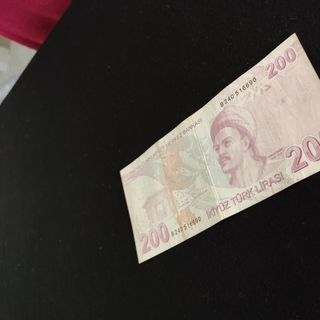200TLBack: (119, 32, 320, 264)
